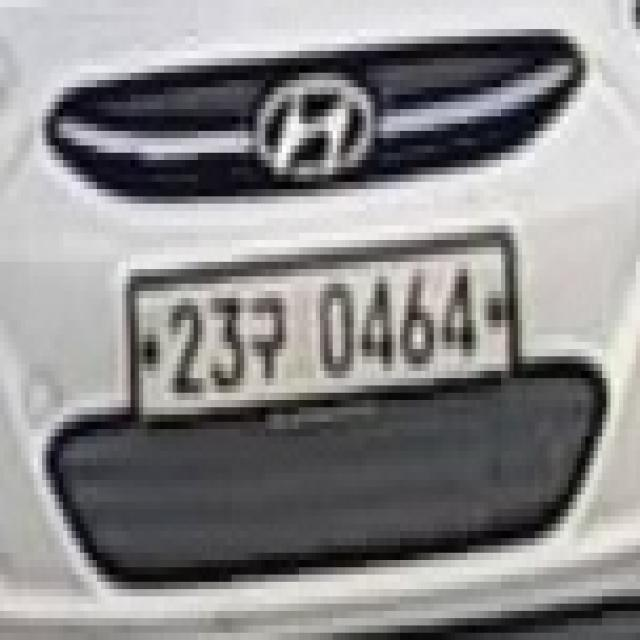0: (311, 278, 357, 376)
2: (161, 296, 206, 402)
3: (210, 293, 252, 389)
4: (439, 264, 484, 365), (362, 273, 397, 373)
6: (402, 267, 443, 372)
gu: (249, 288, 300, 384)
license_plate: (135, 240, 512, 417)
